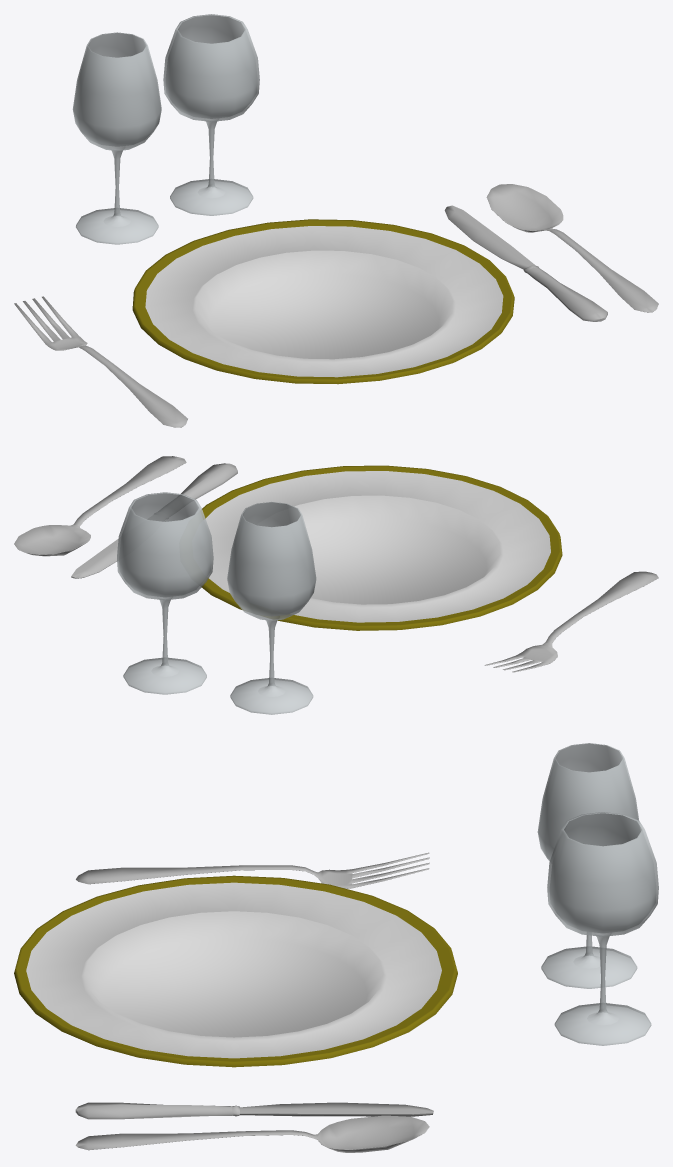
Rendered from sweethome3d-scopia-plate-glasses-and-cutlery-255.glb.
3 views of the same model, one above another, from view 1: azimuth 30°, elevation 25°; view 2: azimuth 150°, elevation 25°; view 3: azimuth 270°, elevation 25° (orthographic). The views are drawn at different scales.
Parts seen in each view (by area): view 1: dish_Circle, winecup_Plane.006, watercup_Plane.005, spoon_Plane.001, fork.002_Plane.002, fork_Plane; view 2: dish_Circle, winecup_Plane.006, watercup_Plane.005, spoon_Plane.001, fork_Plane, fork.002_Plane.002; view 3: dish_Circle, winecup_Plane.006, watercup_Plane.005, spoon_Plane.001, fork.002_Plane.002, fork_Plane.
Boxes of the visible parts, x1,y1,x2,y2 form: dish_Circle: (132,219,514,384); winecup_Plane.006: (163,14,259,215); watercup_Plane.005: (72,32,161,244); spoon_Plane.001: (486,184,658,312); fork.002_Plane.002: (444,205,607,321); fork_Plane: (14,296,187,427); dish_Circle: (201,465,562,630); winecup_Plane.006: (117,492,213,694); watercup_Plane.005: (227,502,316,714); spoon_Plane.001: (14,456,186,556); fork_Plane: (484,571,658,672); fork.002_Plane.002: (71,463,237,578); dish_Circle: (14,875,457,1067); winecup_Plane.006: (547,812,658,1045); watercup_Plane.005: (537,743,638,988); spoon_Plane.001: (75,1115,429,1152); fork.002_Plane.002: (75,1102,433,1119); fork_Plane: (76,852,429,888).
Bounding box in the file's own units: 41.67 × 14.06 × 38.99.
